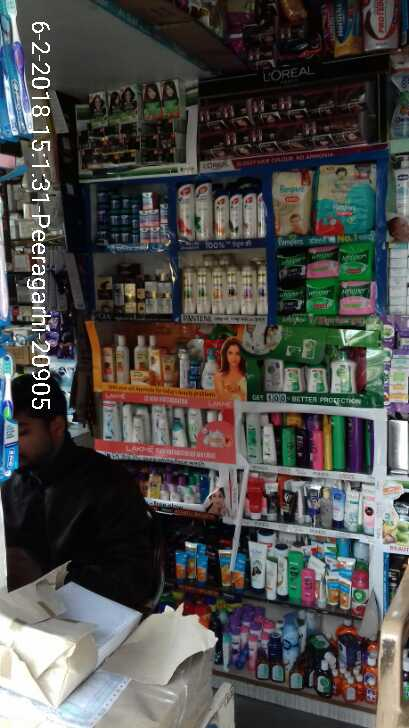oralcare: (2, 1, 34, 142), (1, 352, 20, 487)
vicks: (95, 187, 169, 244)
